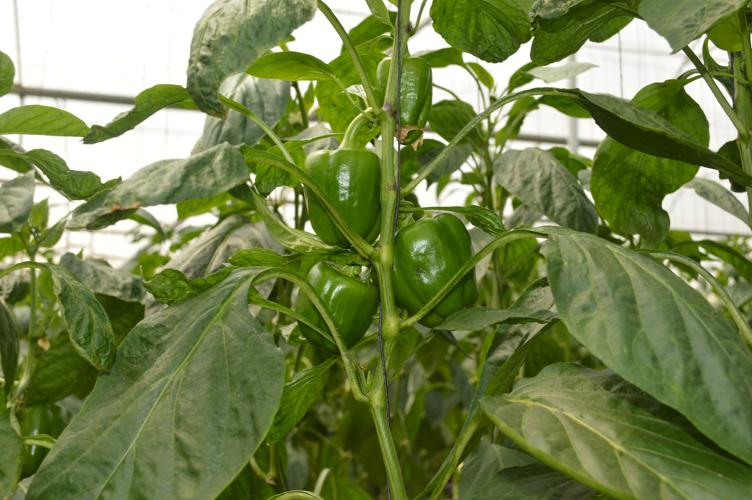BellPepper: (392, 213, 477, 320), (300, 149, 380, 249), (297, 263, 378, 353), (372, 57, 431, 141)
